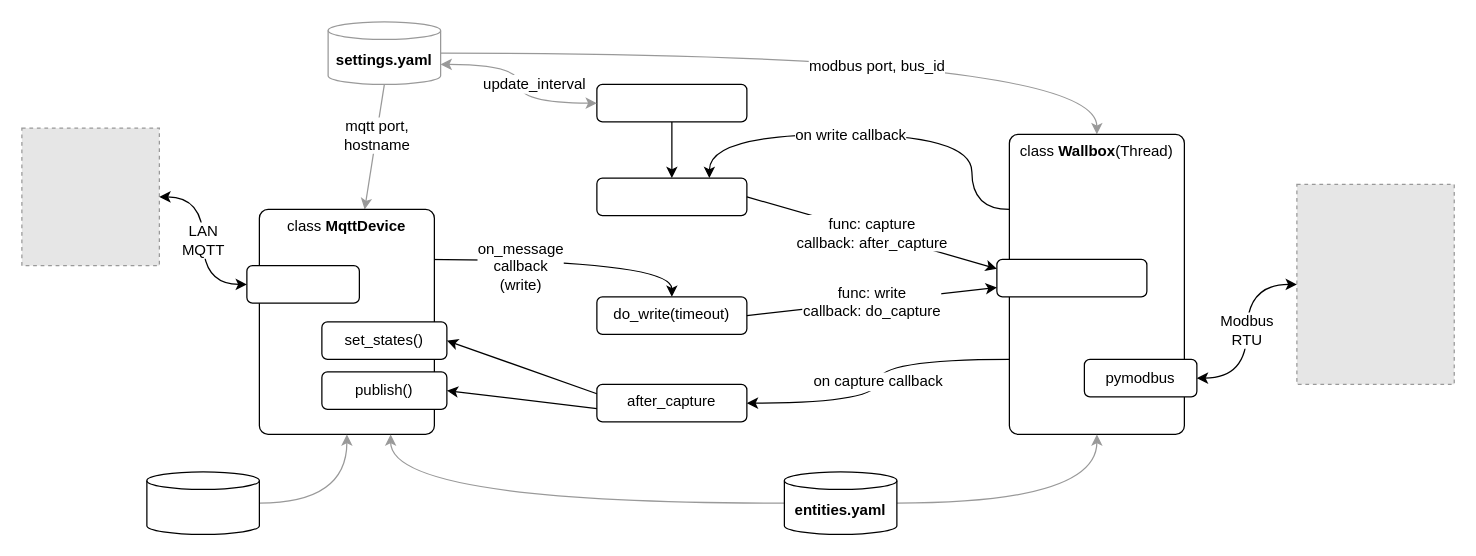
This 1476x556 diagram has some shape labels left out. Grey dashed boxes stand in for pictures. The shapes that lost their labels are listed below. From the top down, each one's centre as x and y in pixels, then its label:
At (x=671, y=102): "capture_timer".
At (x=671, y=196): "do_capture".
At (x=302, y=283): "paho.mqtt".
At (x=1071, y=277): "task_queue.put()".
At (x=202, y=502): "secrets.yaml".
